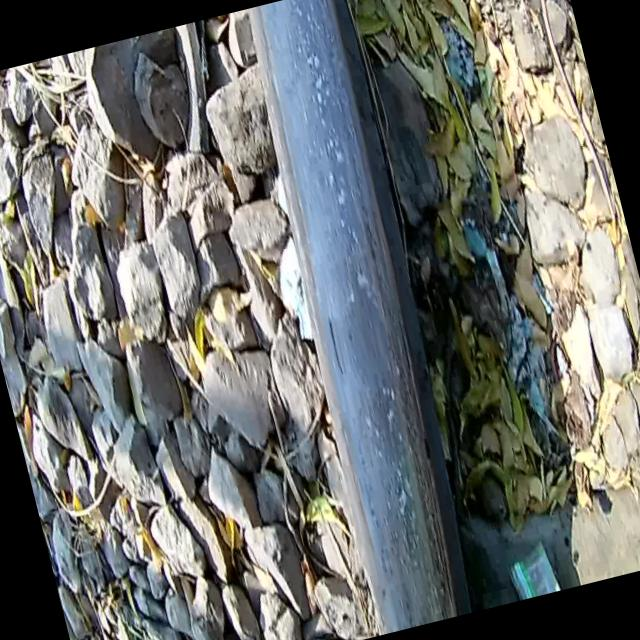Squats: (213, 0, 509, 638)
